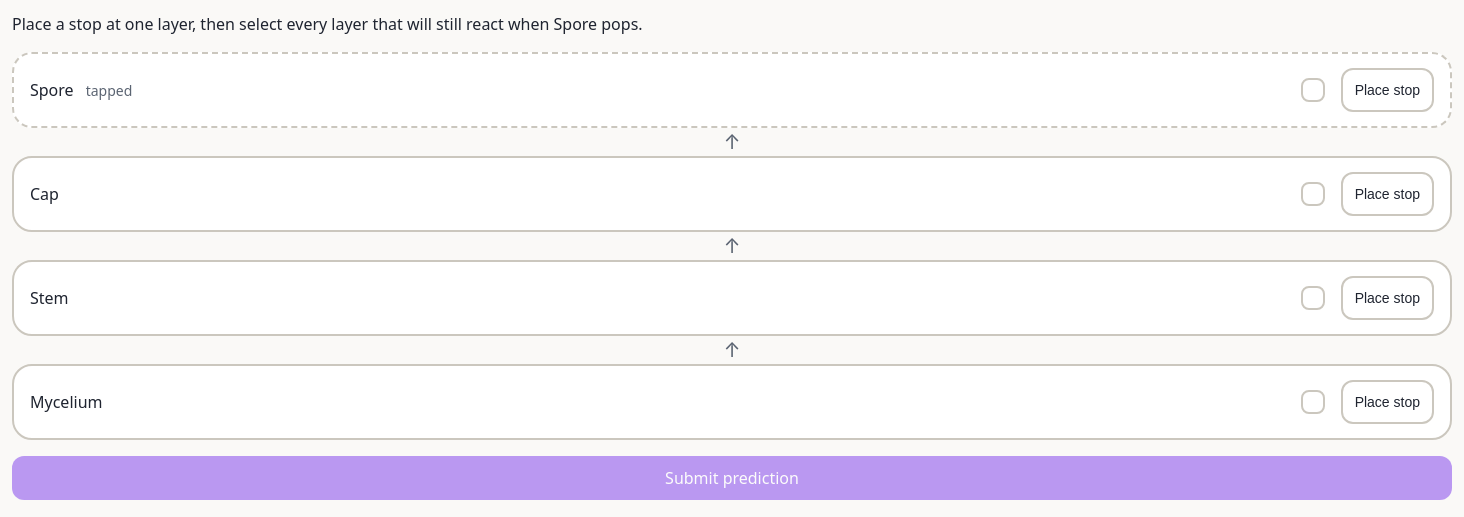
it: EventBubblingGame — master level stop placement › requires a placed stop before the prediction can be submitted
Click the text "Spore" at (52, 90), box top-left (30, 78), bottom-right (74, 102)
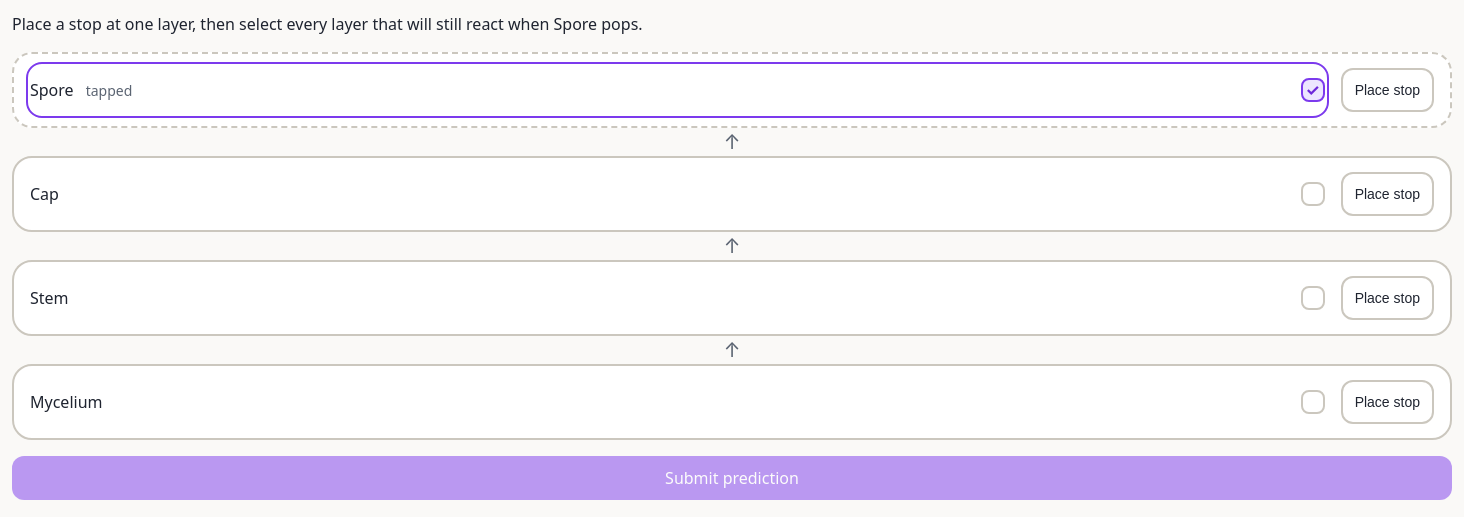
Expected: the button "Submit prediction" is disabled, top-left (12, 456), bottom-right (1452, 500)
Click the 1st button "Place stop" at (1387, 90), box top-left (1341, 68), bottom-right (1434, 112)
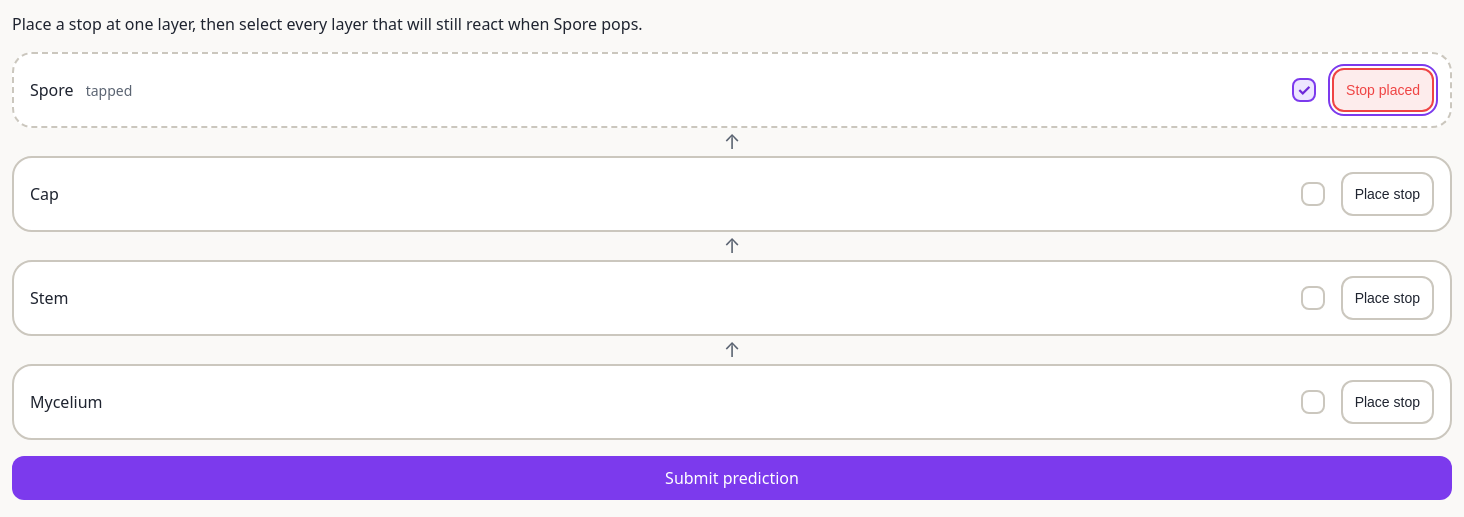
Expected: the button "Submit prediction" is enabled, top-left (12, 456), bottom-right (1452, 500)
